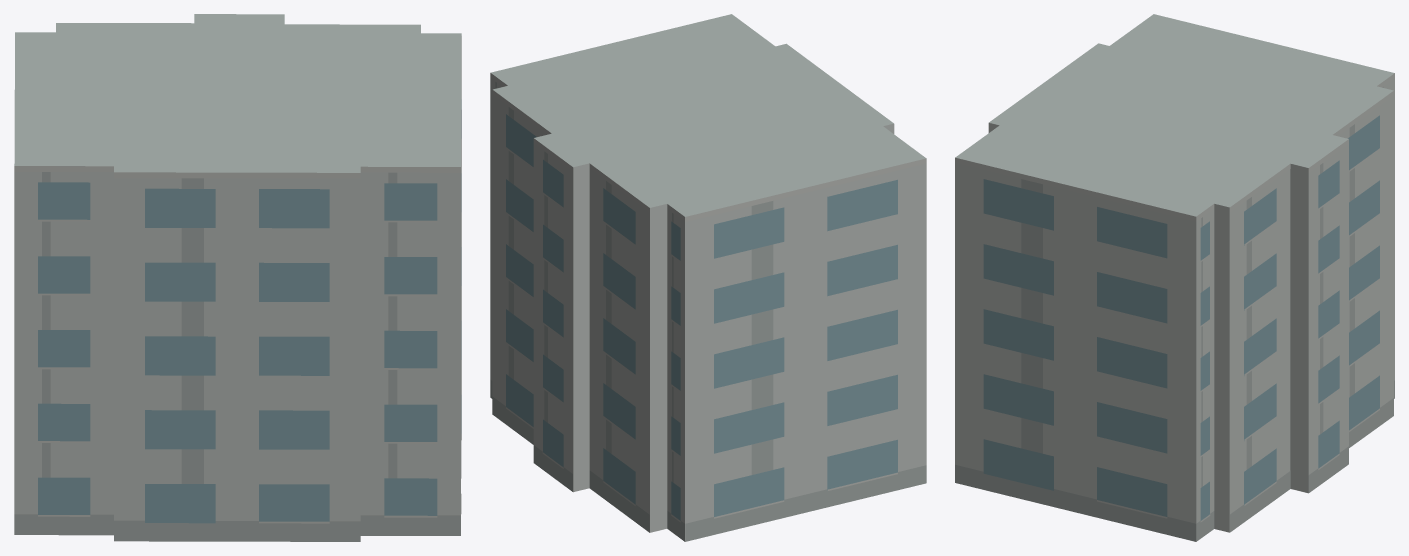
The model's file is survey-upis-32875098.glb.
3 views of the same model, side by side, from view 1: azimuth 30°, elevation 25°; view 2: azimuth 150°, elevation 25°; view 3: azimuth 270°, elevation 25° (orthographic). The views are drawn at different scales.
Visible parts, largest first — view 1: survey-upis-32875098.tmp; view 2: survey-upis-32875098.tmp; view 3: survey-upis-32875098.tmp.
Part boxes in pixels (x1,y1,x2,y2): survey-upis-32875098.tmp: [14, 14, 461, 541]; survey-upis-32875098.tmp: [490, 14, 926, 541]; survey-upis-32875098.tmp: [955, 14, 1394, 541].
Bounding box in the file's own units: 20.39 × 15.25 × 18.7.
